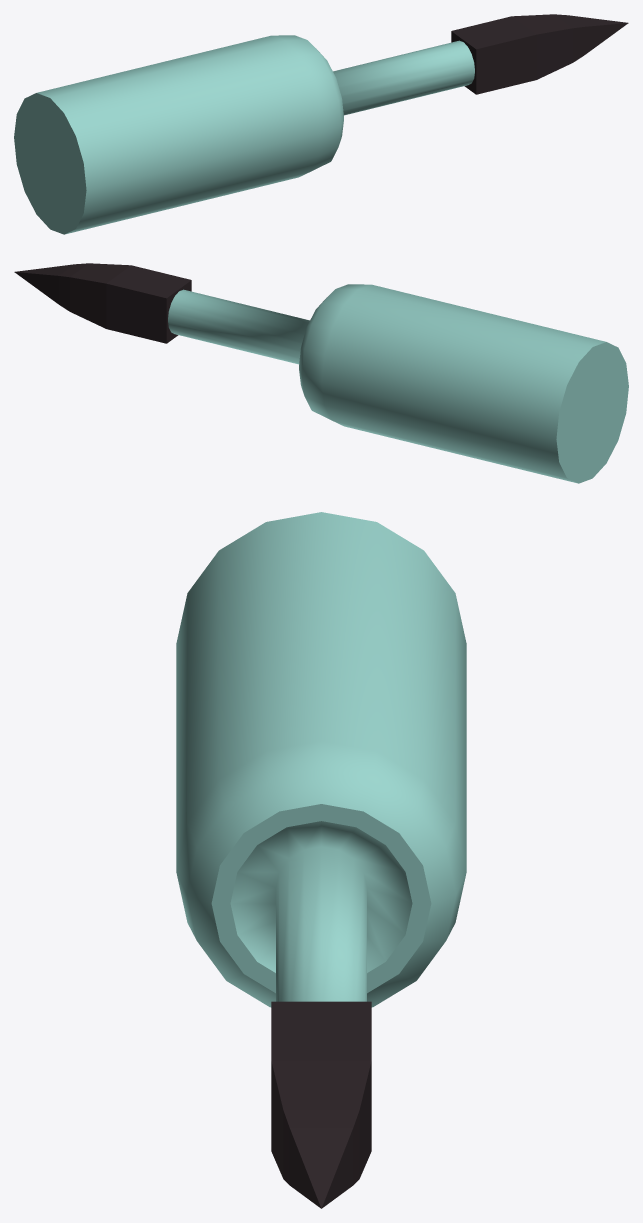
Rendered from grapple_gun.fbx.
3 views of the same model, one above another, from view 1: azimuth 30°, elevation 25°; view 2: azimuth 150°, elevation 25°; view 3: azimuth 270°, elevation 25° (orthographic). The views are drawn at different scales.
Parts seen in each view (by area): view 1: Cylinder; view 2: Cylinder; view 3: Cylinder.
Boxes of the visible parts, box(x1,y1,x2,y2) form: Cylinder: box(14, 14, 628, 234); Cylinder: box(14, 263, 628, 483); Cylinder: box(176, 512, 466, 1208).
Bounding box in the file's own units: 18.56 × 4.03 × 4.03.
